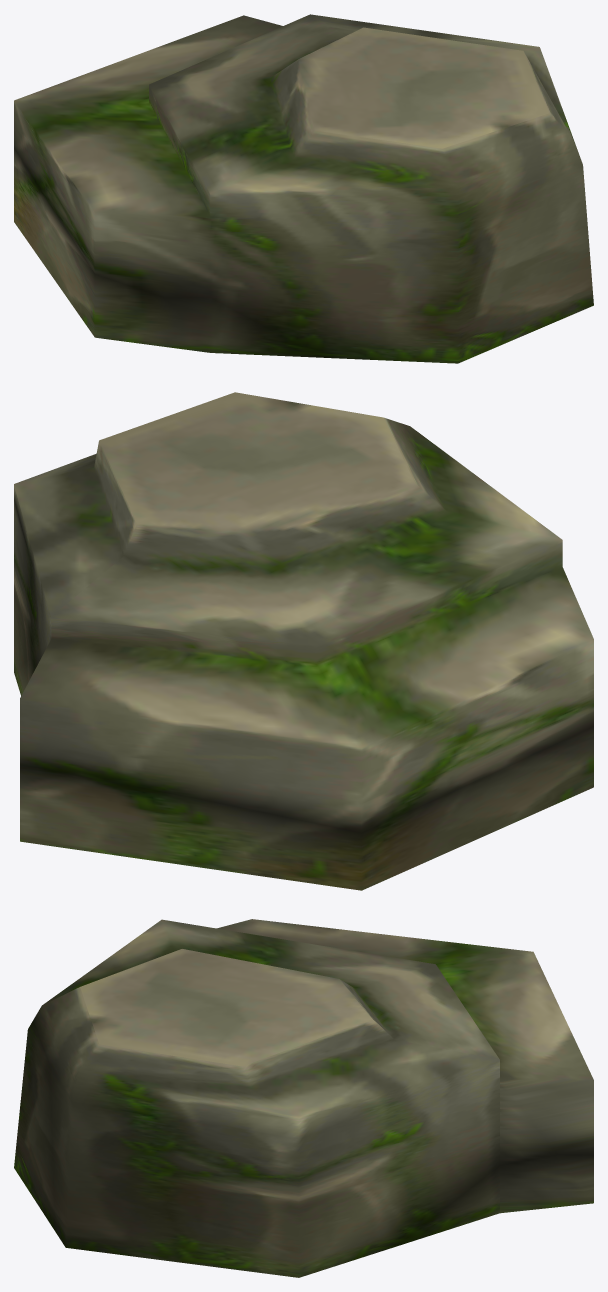
Rendered from RockFormation_4_5 (14).fbx.
The picture shows the model from 3 angles, top to bottom: view 1: azimuth 30°, elevation 25°; view 2: azimuth 150°, elevation 25°; view 3: azimuth 270°, elevation 25°; orthographic projection. The views are drawn at different scales.
Visible parts, largest first — view 1: RockFormation_4_5 (14); view 2: RockFormation_4_5 (14); view 3: RockFormation_4_5 (14).
Part boxes in pixels (<box>): RockFormation_4_5 (14): <box>14,14,593,363</box>; RockFormation_4_5 (14): <box>14,392,593,890</box>; RockFormation_4_5 (14): <box>14,919,593,1277</box>.
Bounding box in the file's own units: 429 × 164 × 454.
